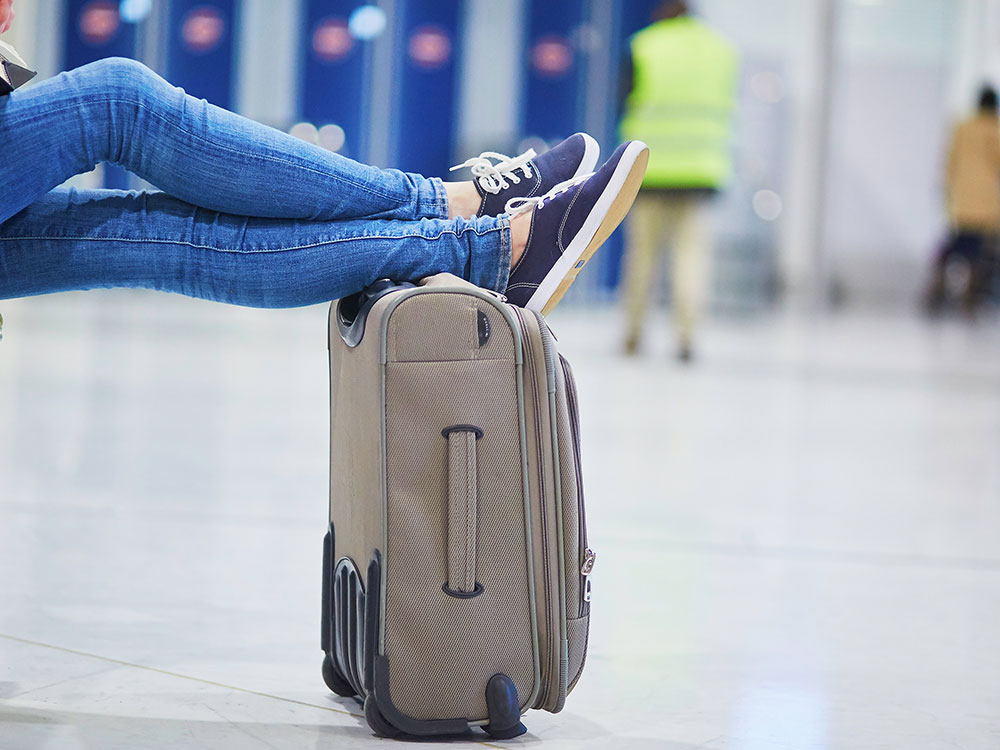luggage: (312, 286, 592, 740)
